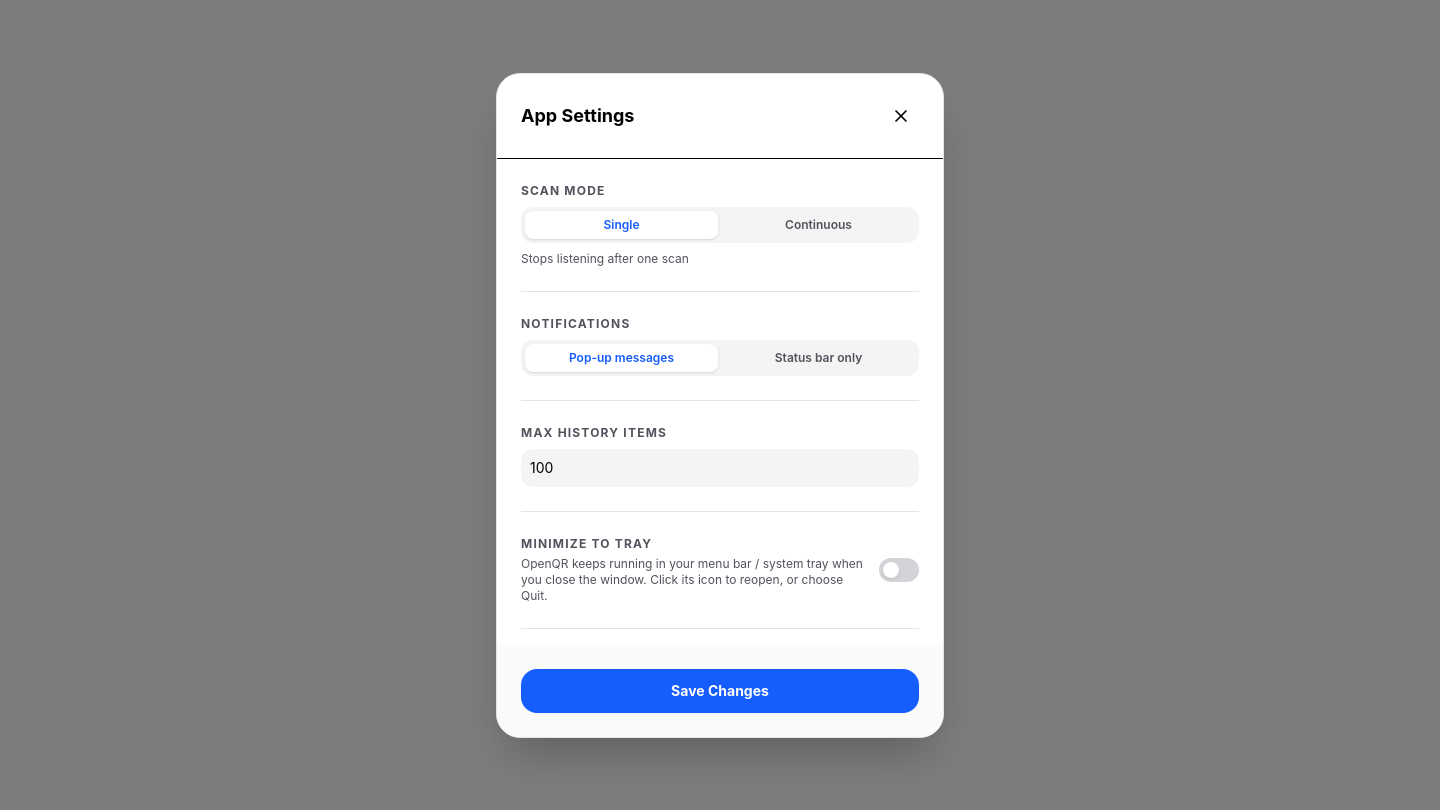
Settings › keeps editing when Keep editing is clicked
Click the radio button "Continuous".
click(818, 224)  # box [722,210,915,238]
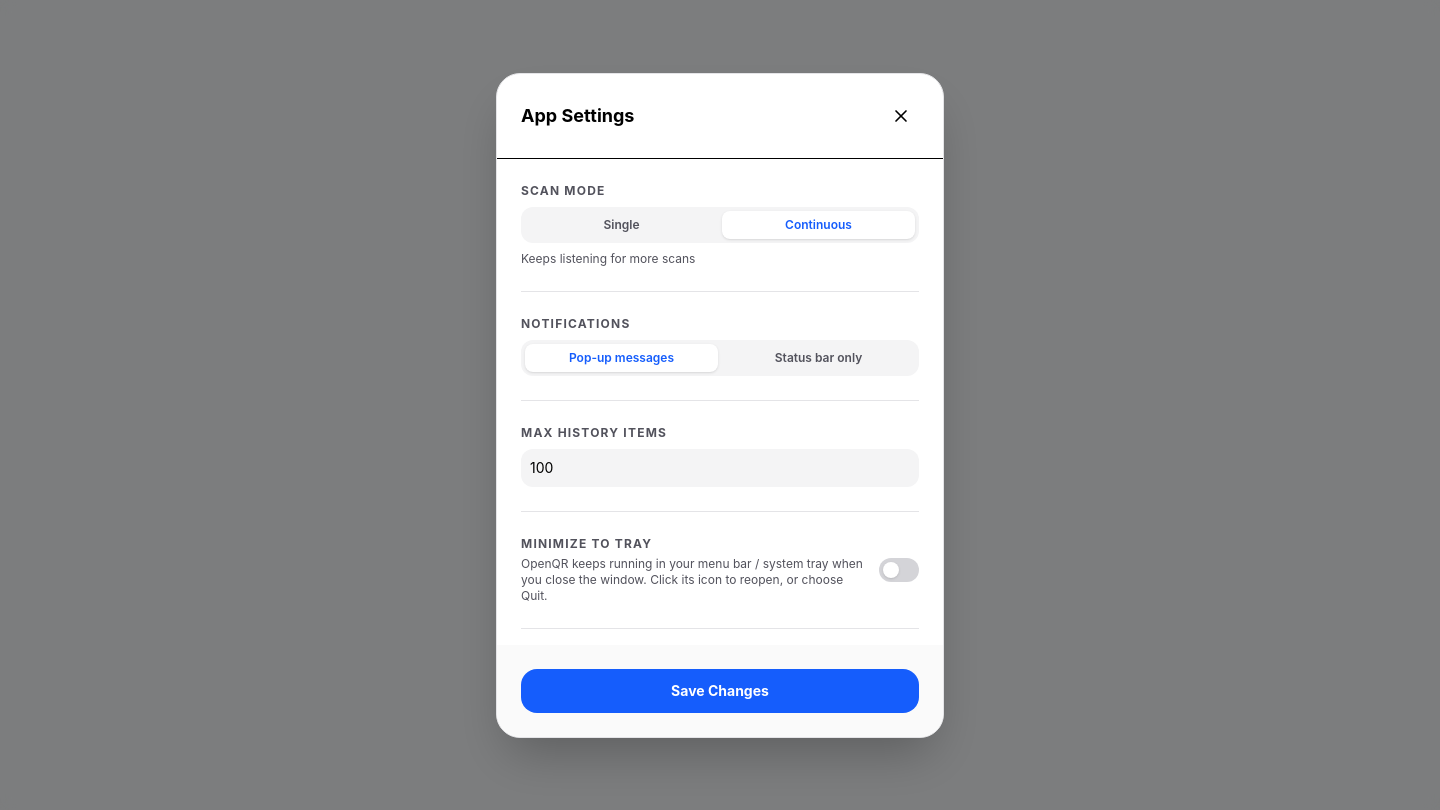
Click the button named "Close settings".
click(901, 116)  # box [883,98,919,134]
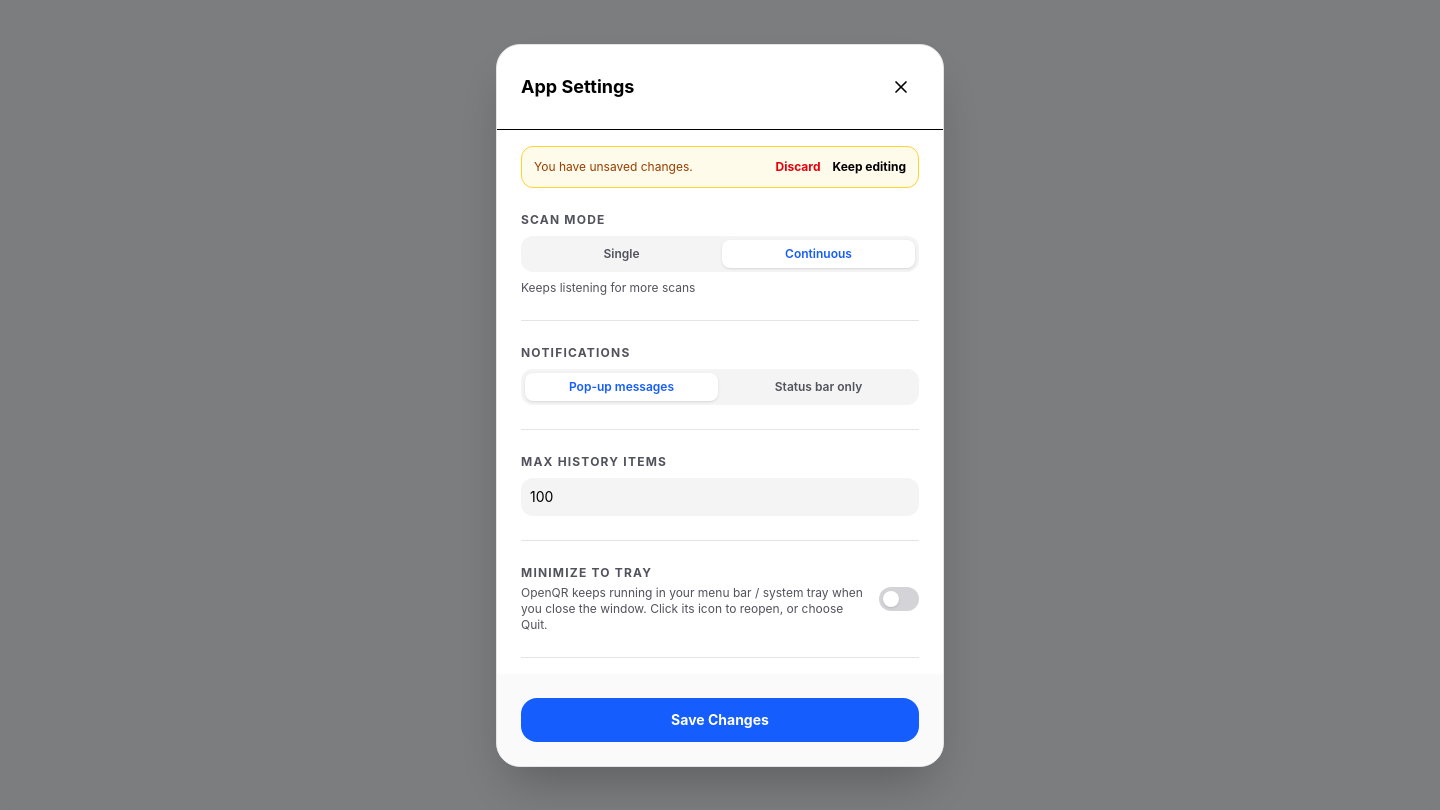
Click the button "Keep editing".
click(869, 166)  # box [832,158,906,174]
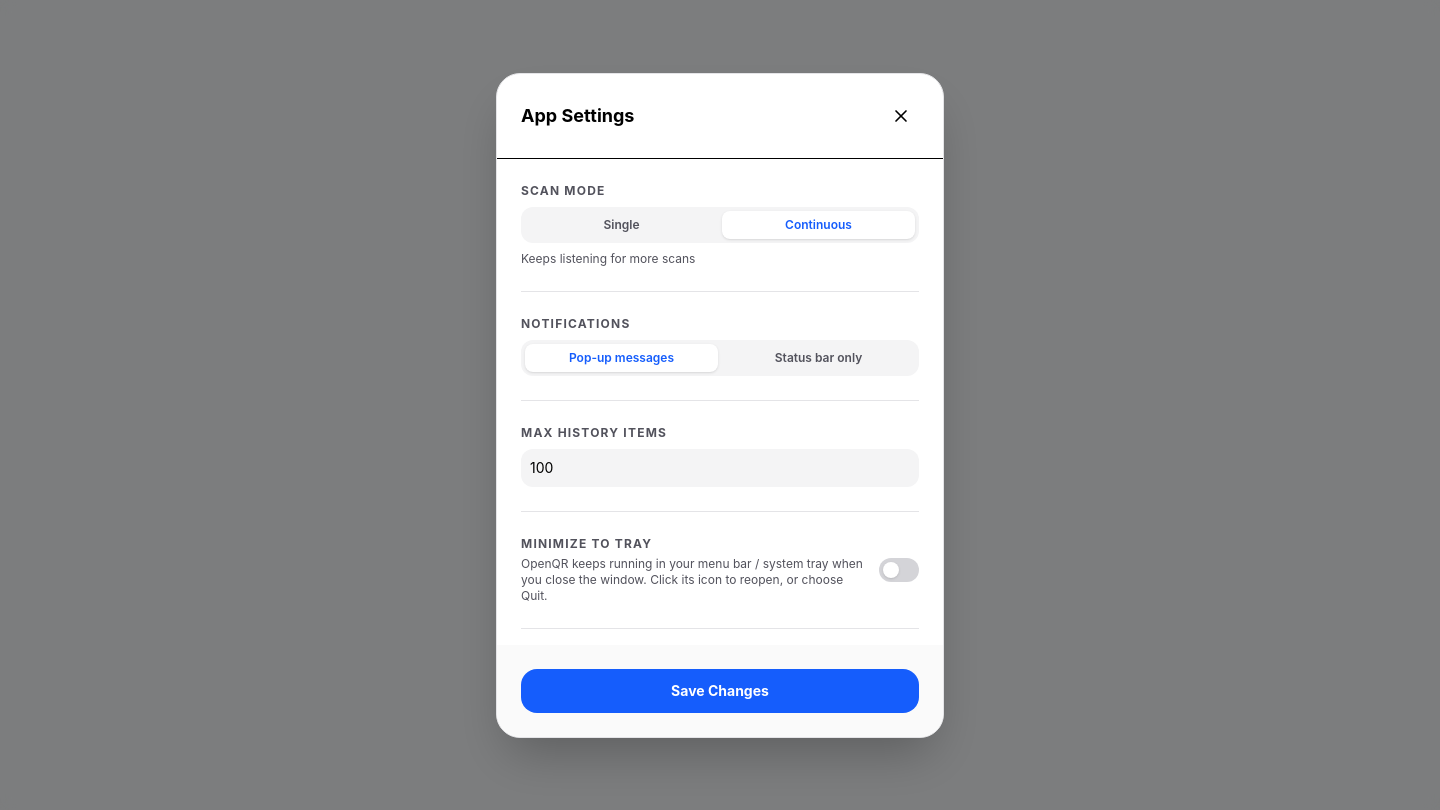
Expected: the text "You have unsaved changes." is gone
